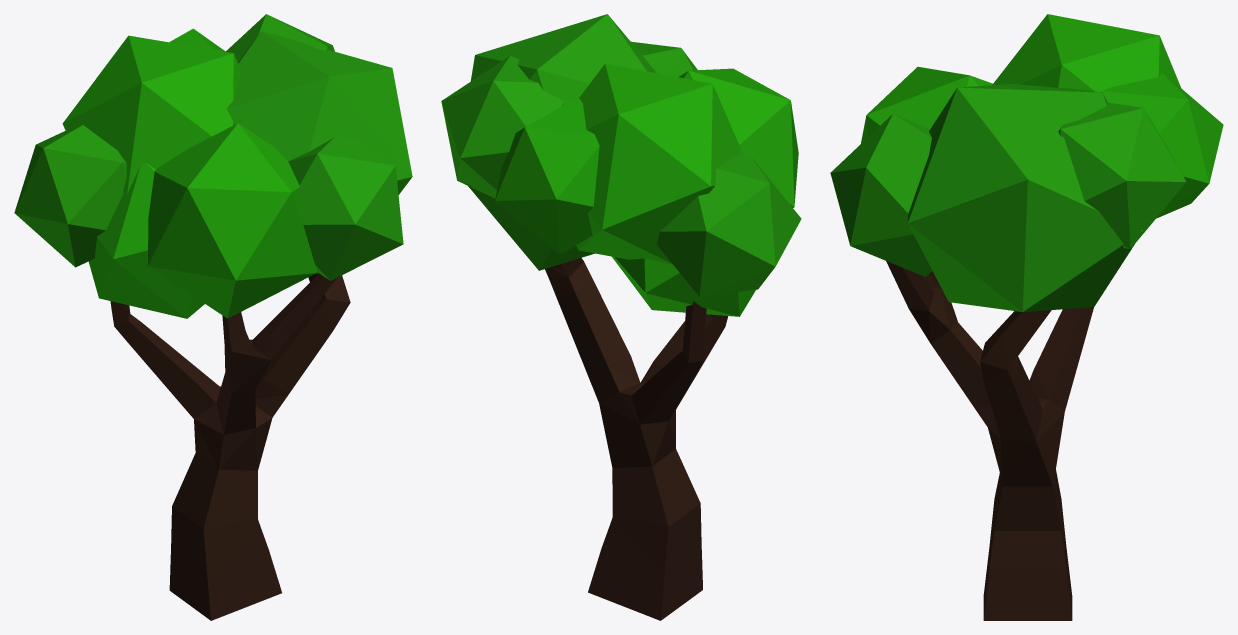
File: Tree.obj
3 views of the same model, side by side, from view 1: azimuth 30°, elevation 25°; view 2: azimuth 150°, elevation 25°; view 3: azimuth 270°, elevation 25° (orthographic). The views are drawn at different scales.
Parts seen in each view (by area): view 1: Tree_5; view 2: Tree_5; view 3: Tree_5.
Part boxes in pixels (x1=…): Tree_5: x1=14, y1=14, x2=412, y2=620; Tree_5: x1=441, y1=14, x2=801, y2=620; Tree_5: x1=830, y1=14, x2=1223, y2=620.
Size of the model in its own units: 2.52 by 3.77 by 2.39.
